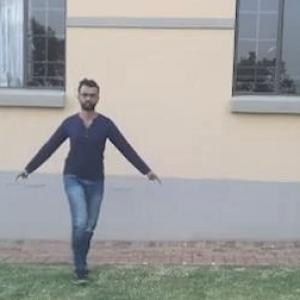land: (28, 88, 140, 261)
